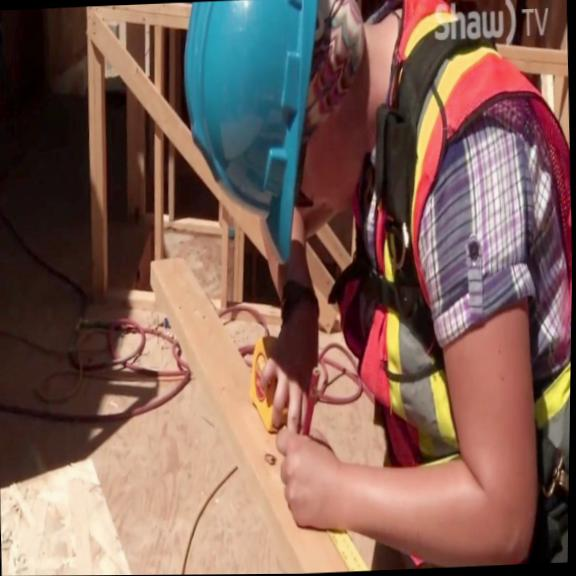safety_vest: (319, 0, 576, 568)
